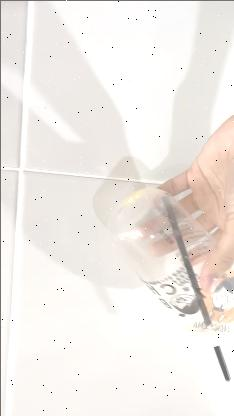Others: (108, 186, 234, 380)
